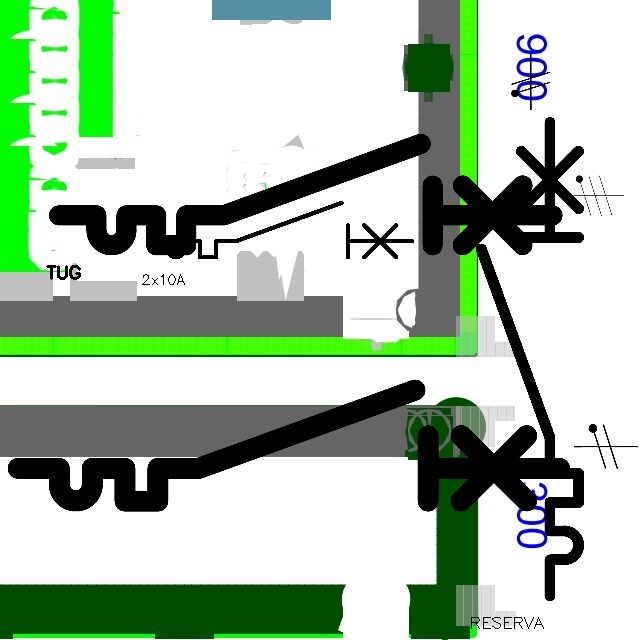interruptor_termomagnetico: (4, 376, 573, 515), (46, 131, 565, 258), (469, 110, 591, 608), (141, 196, 419, 264)
